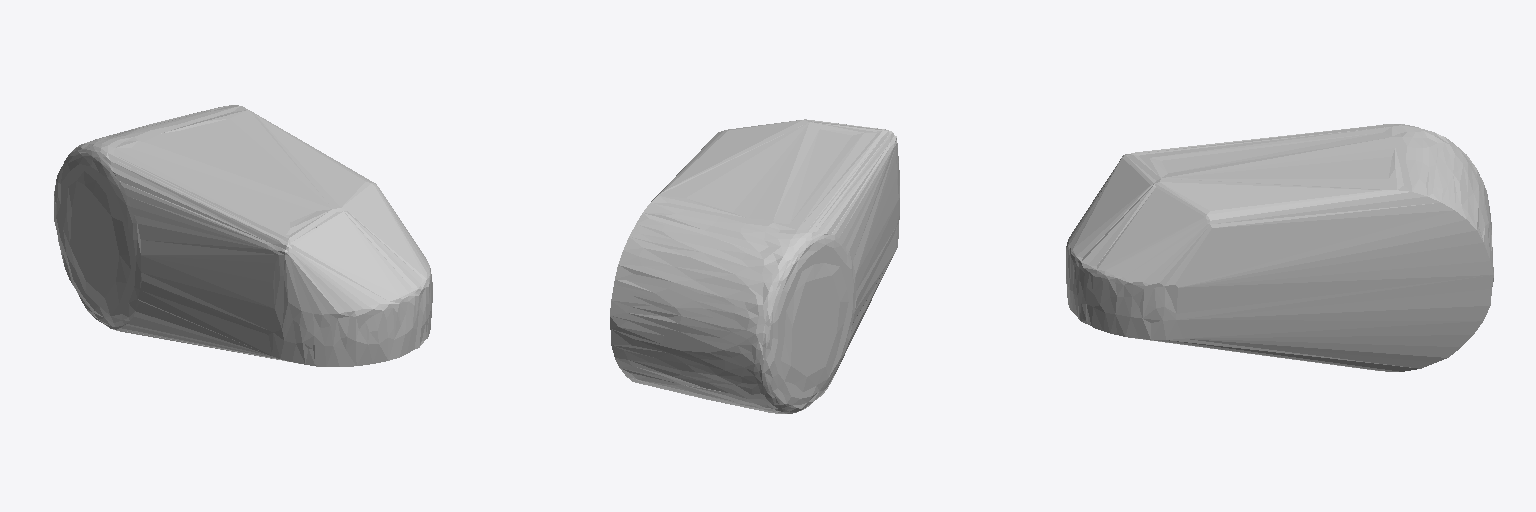
The model's file is arm_1_collision.obj.
3 views of the same model, side by side, from view 1: azimuth 30°, elevation 25°; view 2: azimuth 150°, elevation 25°; view 3: azimuth 270°, elevation 25° (orthographic).
Size of the model in its own units: 0.142 by 0.118 by 0.252.